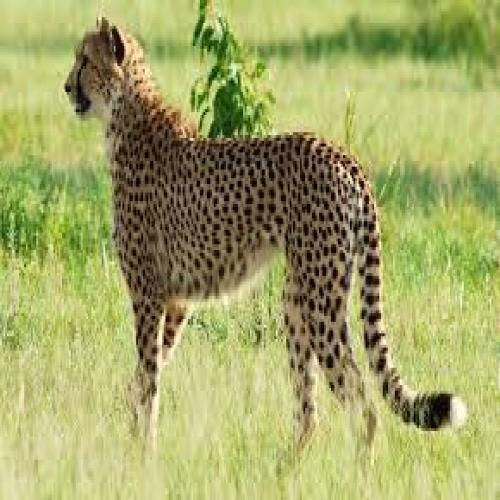cheetah-endangered: (64, 23, 458, 456)
